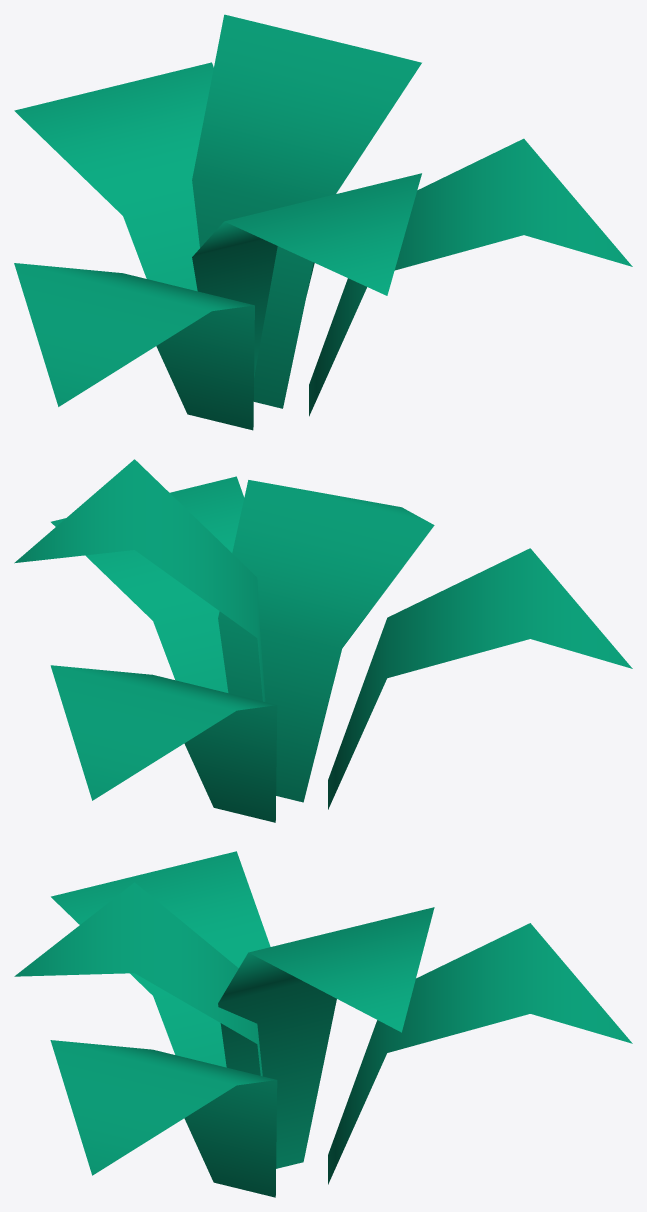
The model's file is plant1.fbx.
3 views of the same model, one above another, from view 1: azimuth 30°, elevation 25°; view 2: azimuth 150°, elevation 25°; view 3: azimuth 270°, elevation 25° (orthographic). The views are drawn at different scales.
Visible parts, largest first — view 1: mergedBlocks; view 2: mergedBlocks; view 3: mergedBlocks.
Boxes of the visible parts, x1,y1,x2,y2 form: mergedBlocks: [14, 14, 632, 430]; mergedBlocks: [14, 459, 632, 822]; mergedBlocks: [14, 851, 632, 1197].
Bounding box in the file's own units: 7.47 × 3.84 × 7.41.
